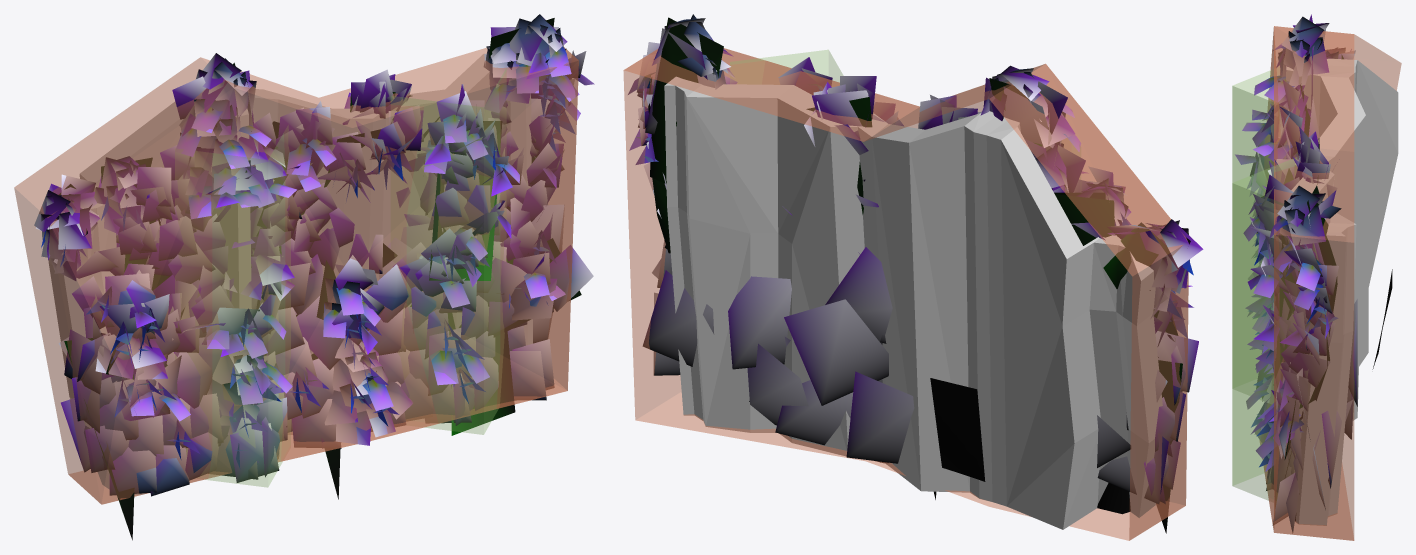
Rendered from tro_1_2_wallblocker_tall.dae.
3 renders of one model, left to right at view 1: azimuth 30°, elevation 25°; view 2: azimuth 150°, elevation 25°; view 3: azimuth 270°, elevation 25°, orthographic. The views are drawn at different scales.
Parts seen in each view (by area): view 1: Colmesh-1, tree_oak_bush_a950, tree_oak_bush_a280; view 2: Colmesh-1, tree_oak_bush_a280, tree_oak_bush_a950; view 3: Colmesh-1, tree_oak_bush_a950, tree_oak_bush_a280.
Boxes of the visible parts, x1,y1,x2,y2 form: Colmesh-1: (14, 47, 578, 504); tree_oak_bush_a950: (34, 14, 594, 540); tree_oak_bush_a280: (34, 27, 586, 472); Colmesh-1: (623, 48, 1188, 540); tree_oak_bush_a280: (637, 18, 1203, 503); tree_oak_bush_a950: (628, 14, 1193, 533); Colmesh-1: (1232, 26, 1401, 540); tree_oak_bush_a950: (1235, 16, 1392, 532); tree_oak_bush_a280: (1250, 14, 1357, 525).
Size of the model in its own units: 20.1 by 5.88 by 15.85.
